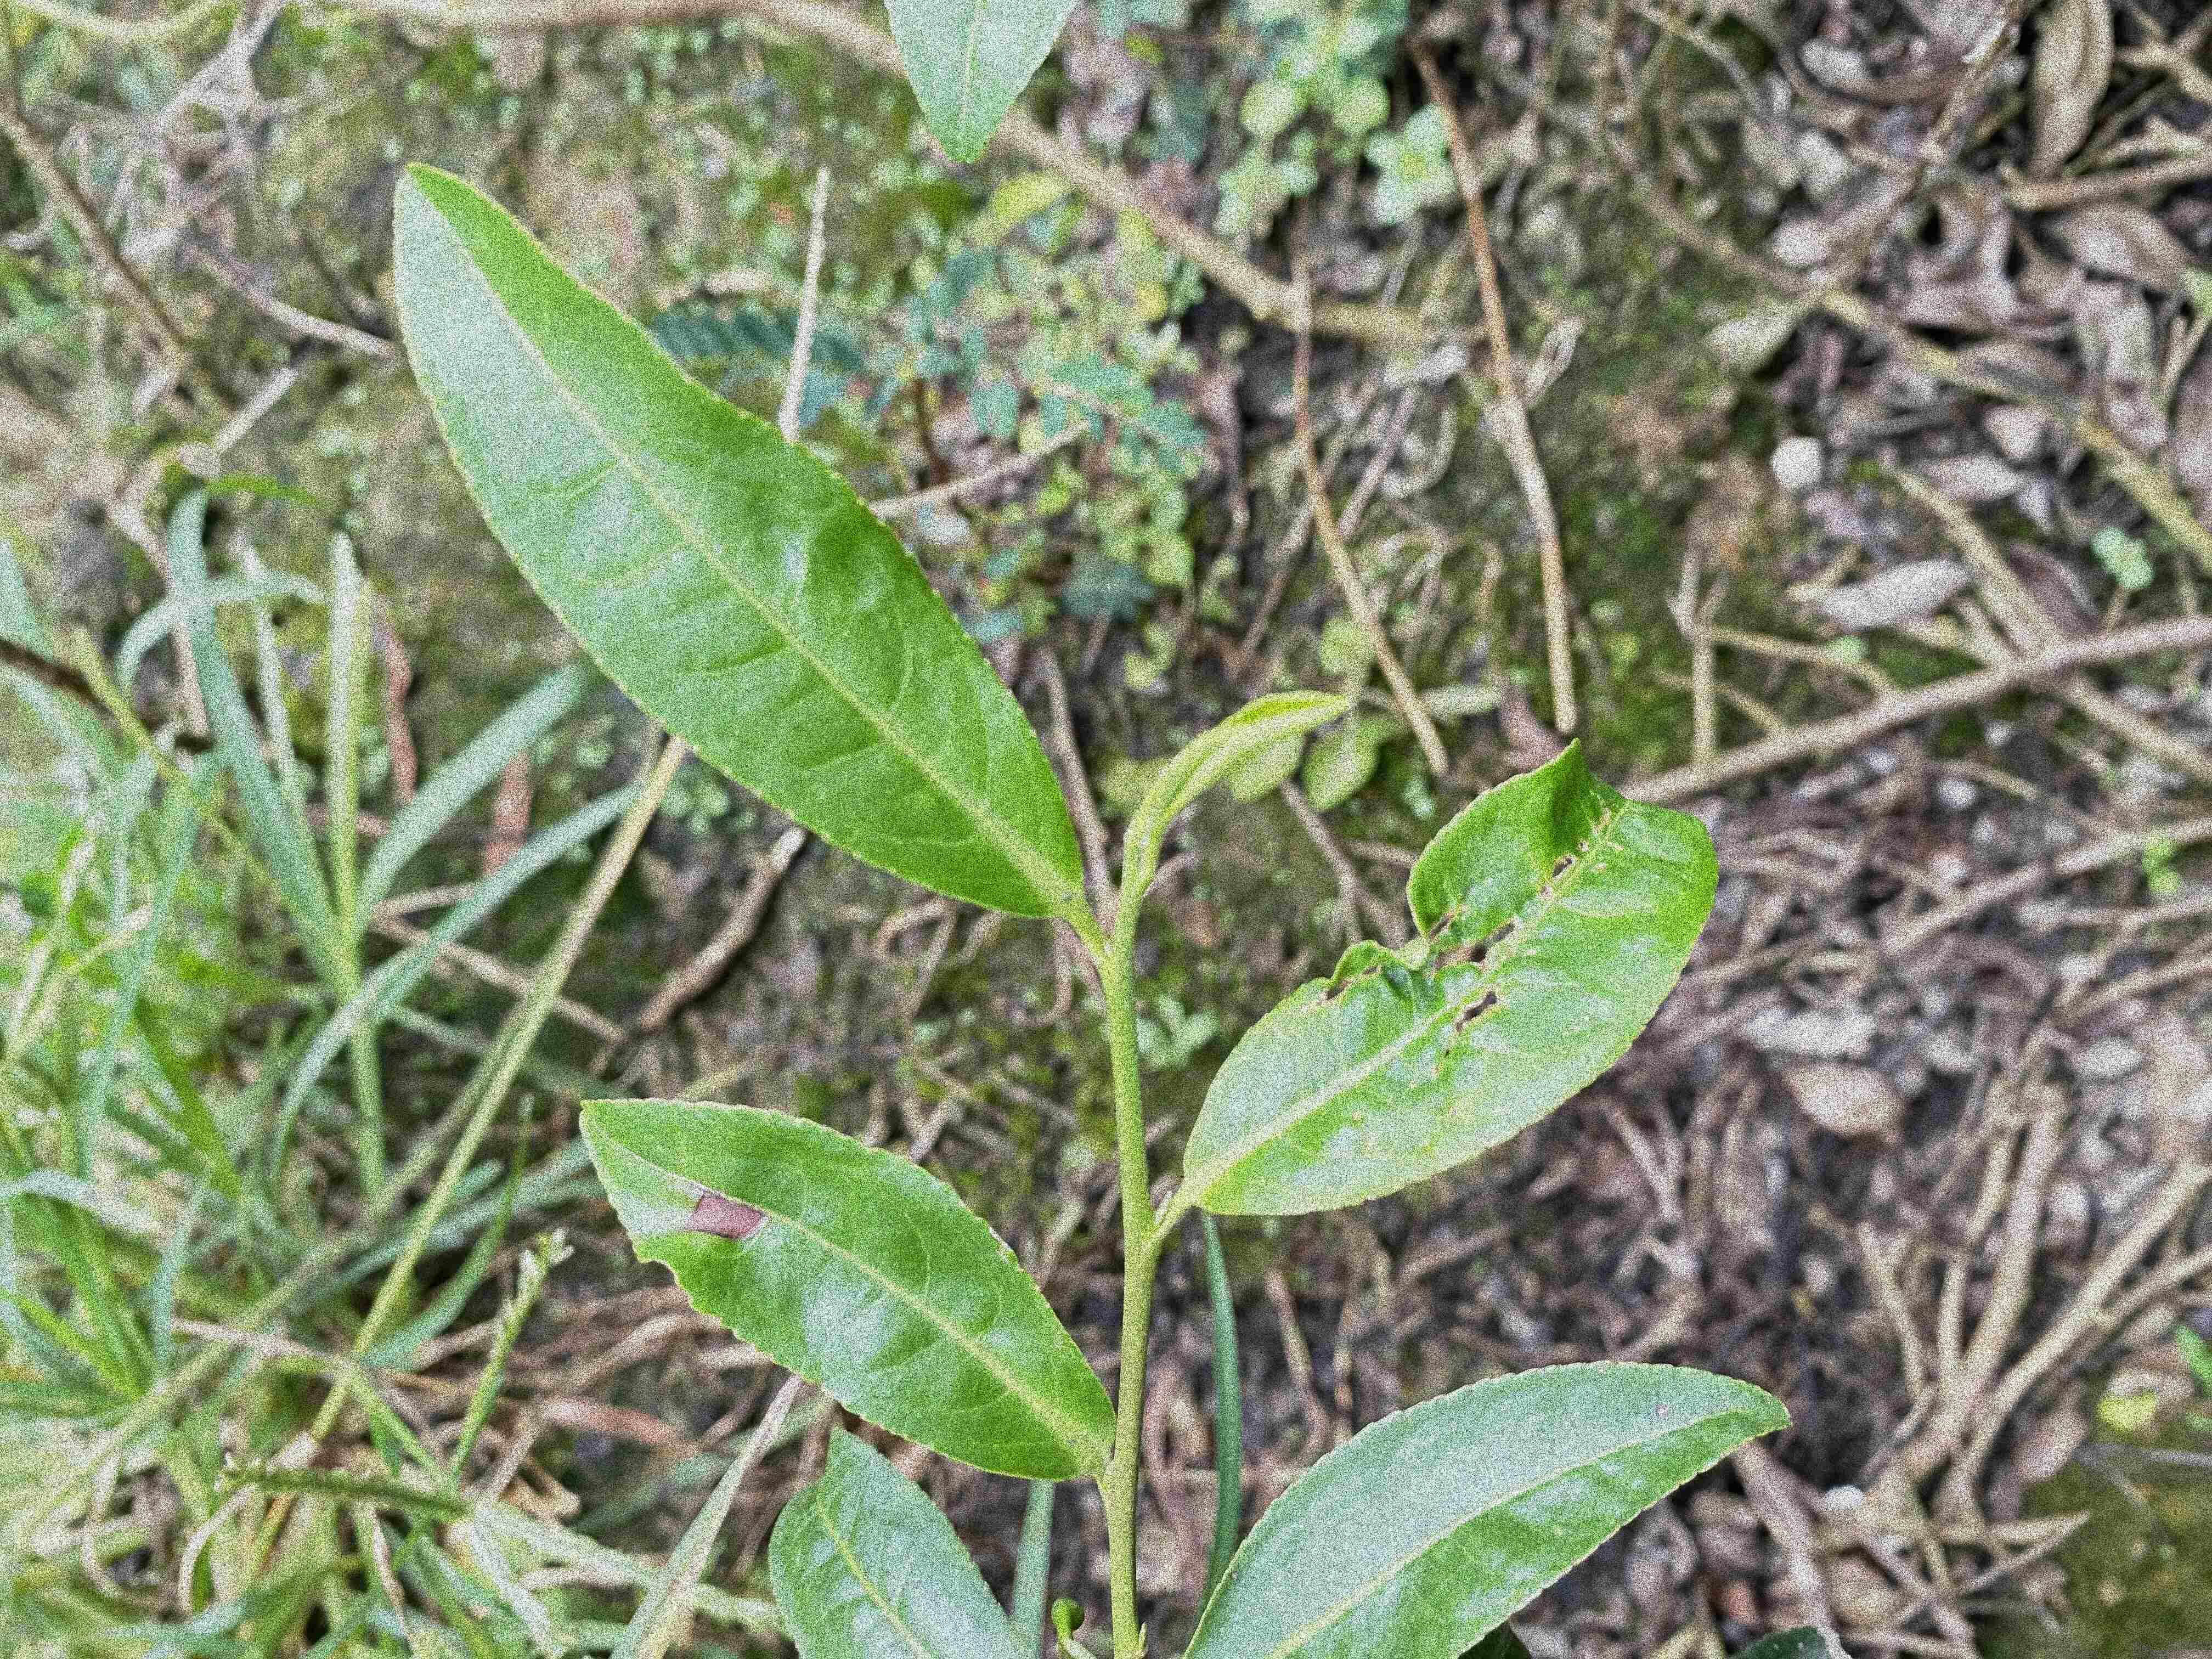chihuo_high: (1183, 737, 1721, 1218)
healthy: (390, 162, 1087, 920), (765, 1424, 1024, 1657)
tanju_high: (577, 1098, 1116, 1481)
tanju_low: (1184, 1361, 1792, 1657)
